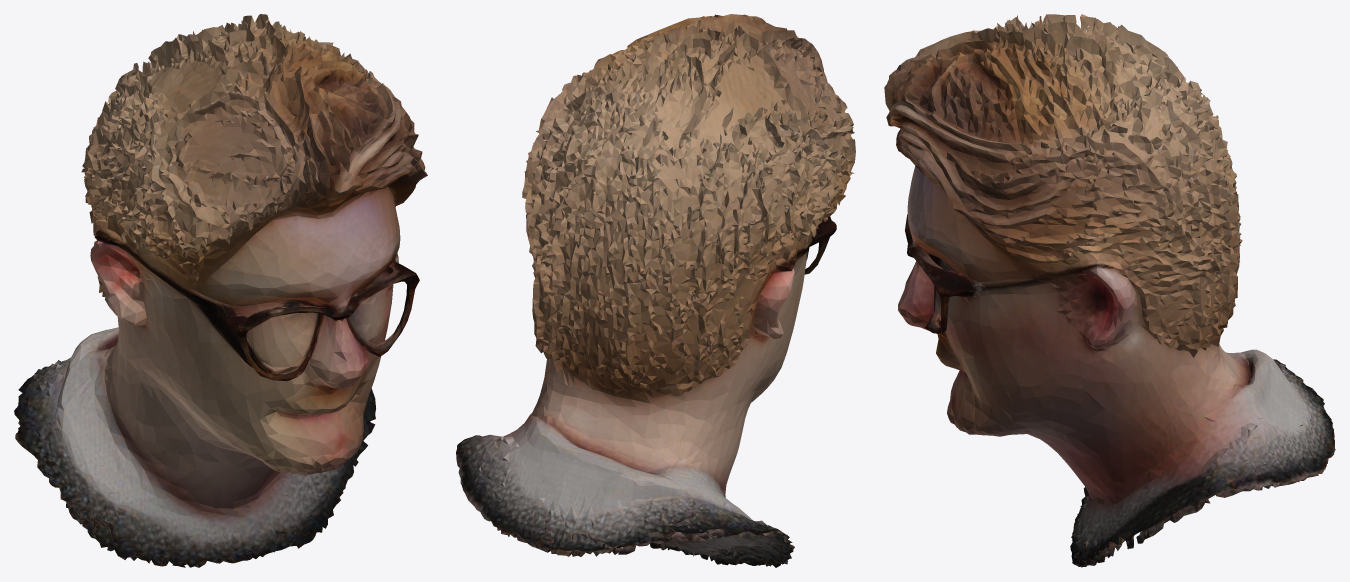
Rendered from photogrammetry-2026-09-04.glb.
The picture shows the model from 3 angles, left to right: view 1: azimuth 30°, elevation 25°; view 2: azimuth 150°, elevation 25°; view 3: azimuth 270°, elevation 25°; orthographic projection. The views are drawn at different scales.
Parts seen in each view (by area): view 1: world; view 2: world; view 3: world.
Boxes of the visible parts, bbox=[...] form: world: bbox=[14, 14, 427, 567]; world: bbox=[456, 14, 855, 567]; world: bbox=[884, 14, 1335, 567].
Size of the model in its own units: 0.6047 by 0.947 by 0.7509.
Materials: 1 (1 with a texture image).
